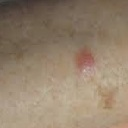Carcinoma: (76, 49, 99, 84)
